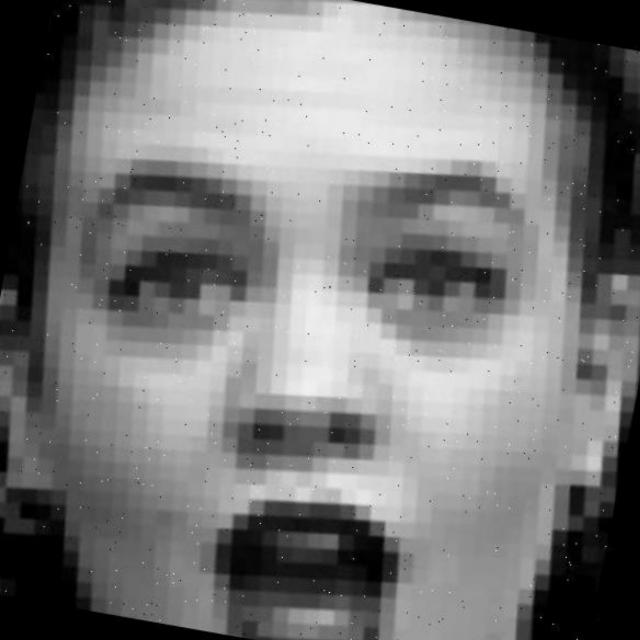Surprised: (34, 97, 640, 639)
